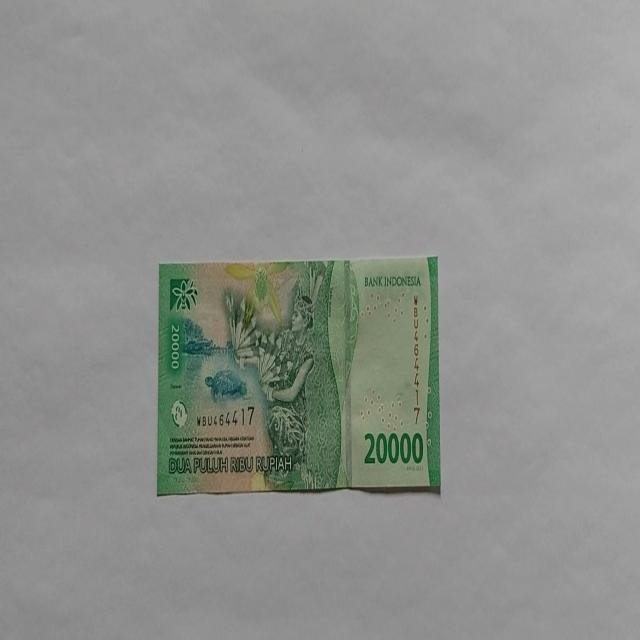dua puluh ribu rupiah: (156, 255, 441, 497)
